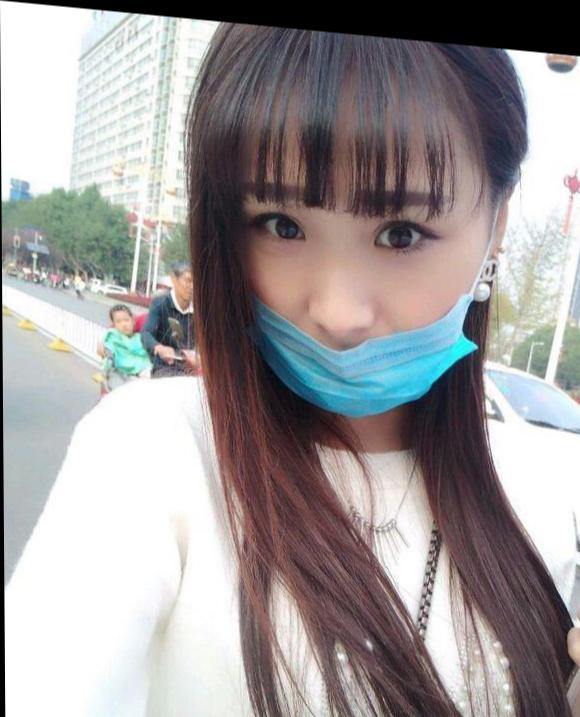NONE: (178, 269, 200, 296), (116, 312, 134, 334)
WRONG: (232, 150, 484, 420)
